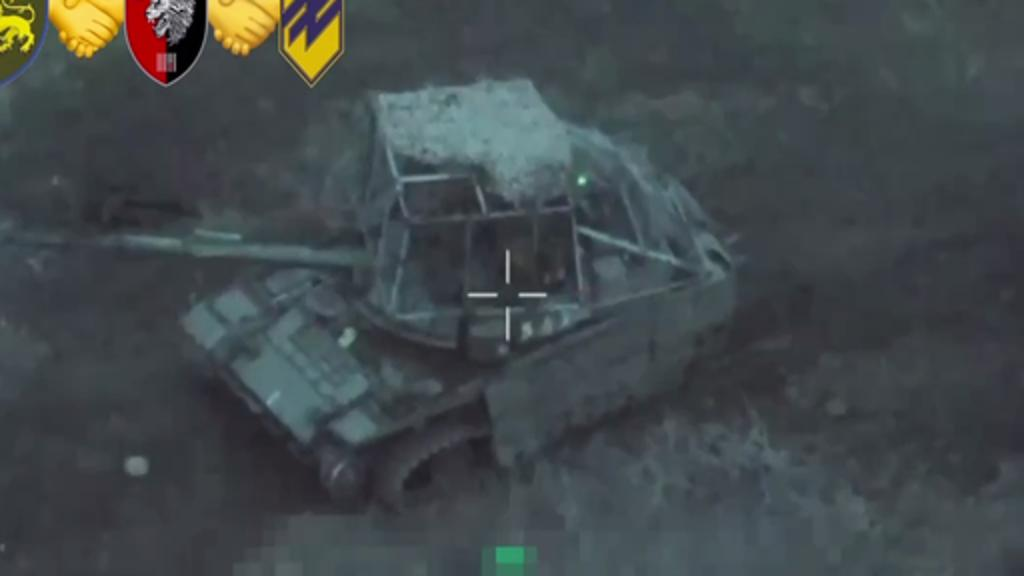TANK: (0, 68, 748, 510)
